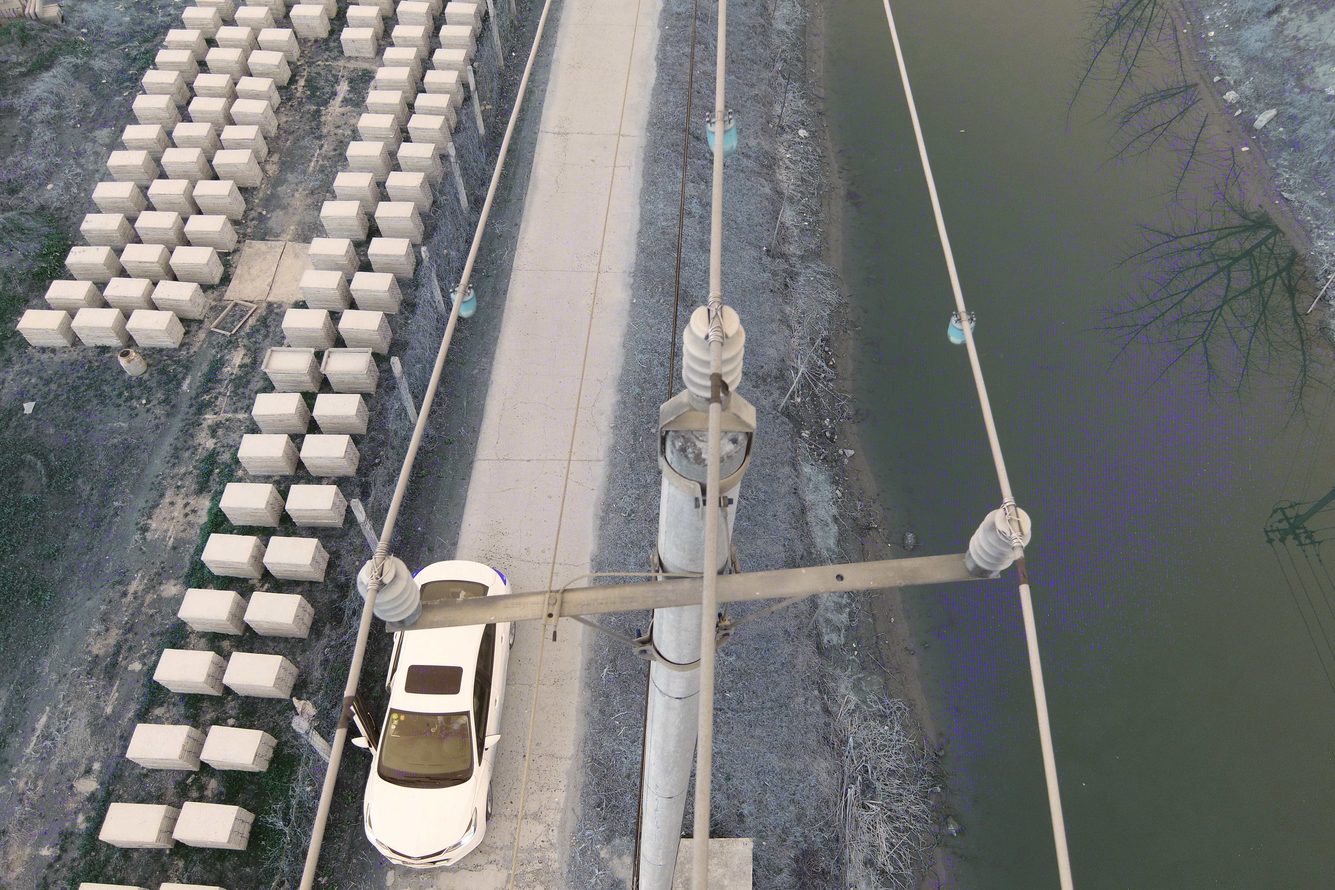severe_soiling_no_discharge_whole: (962, 504, 1034, 579)
